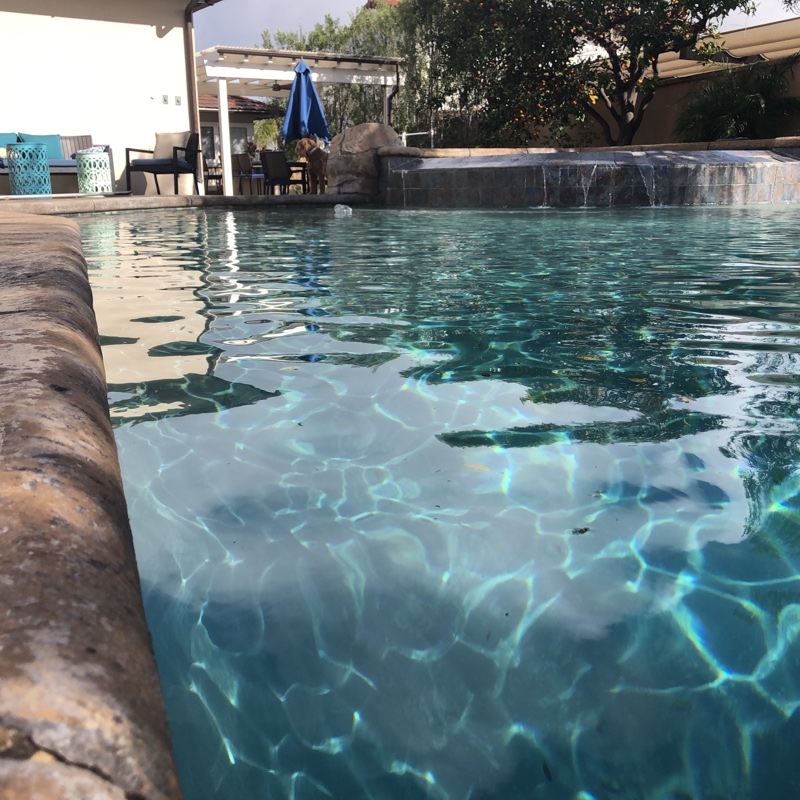Plastic Bottle: (331, 200, 353, 220)
